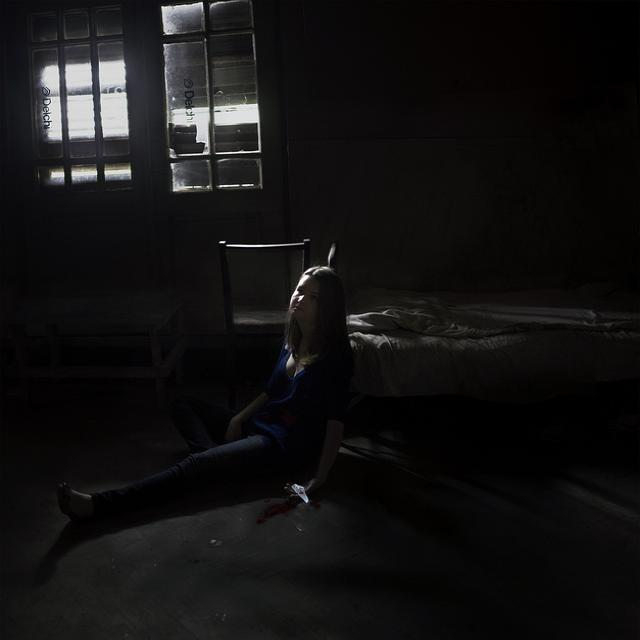People: (0, 264, 357, 633)
chair: (190, 217, 326, 375)
